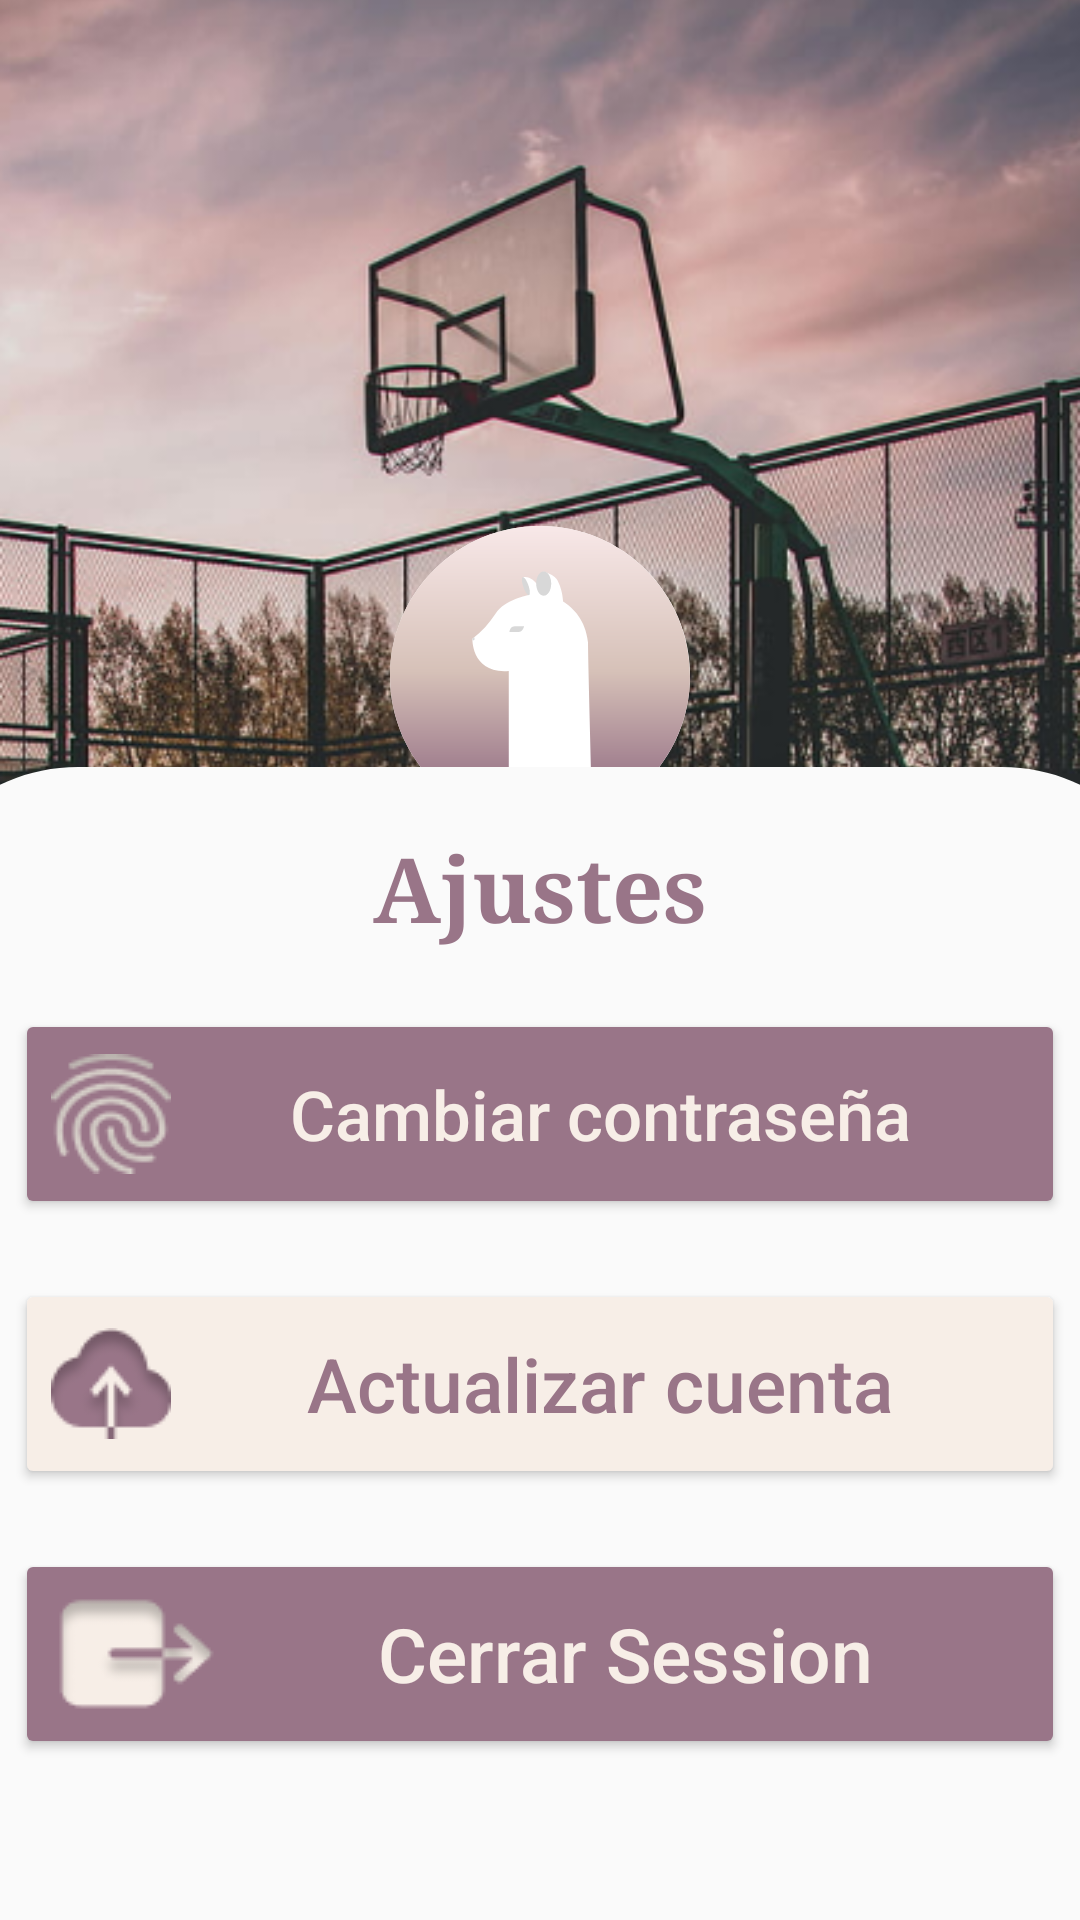

Icon click points for this 1080*1920 phone screenshot, format point (x, y):
alpaca: point (540, 676)
